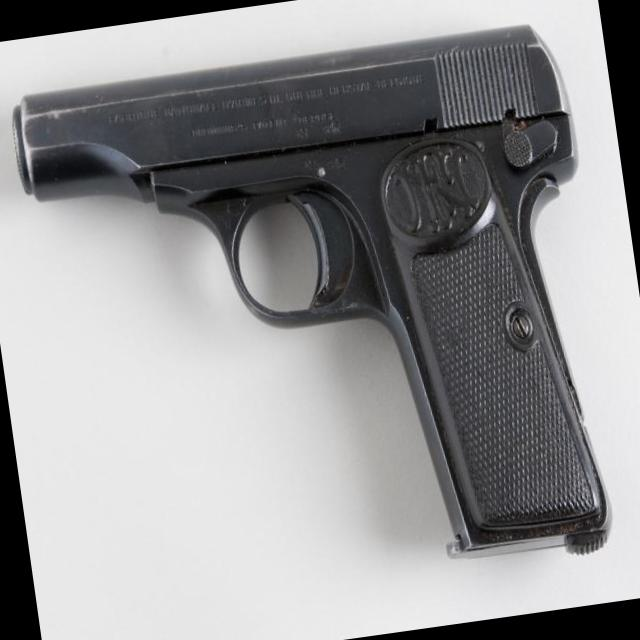Gun: (14, 25, 607, 557)
